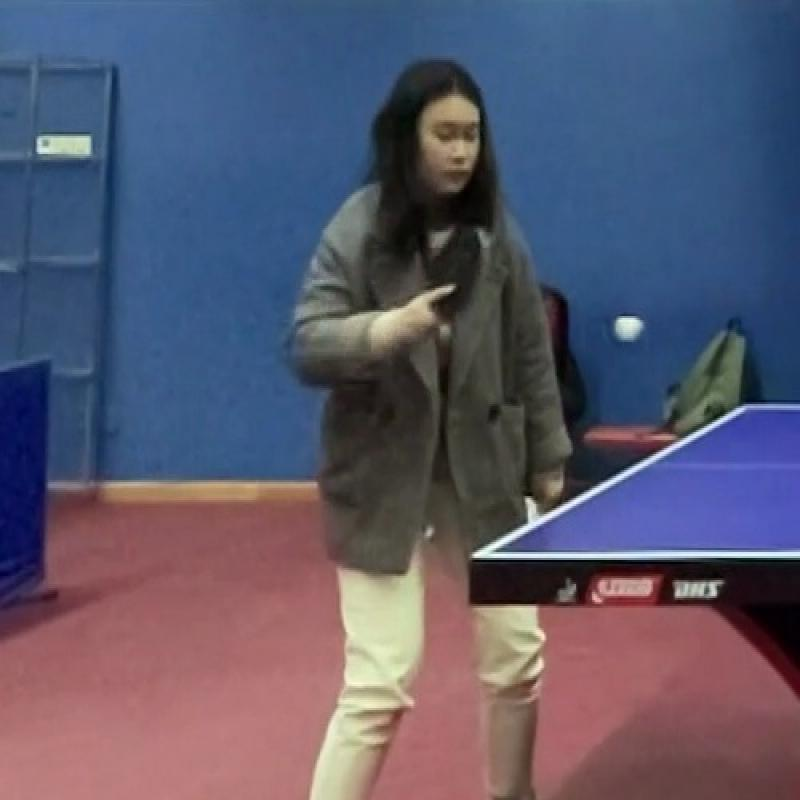bats: (406, 236, 506, 337)
